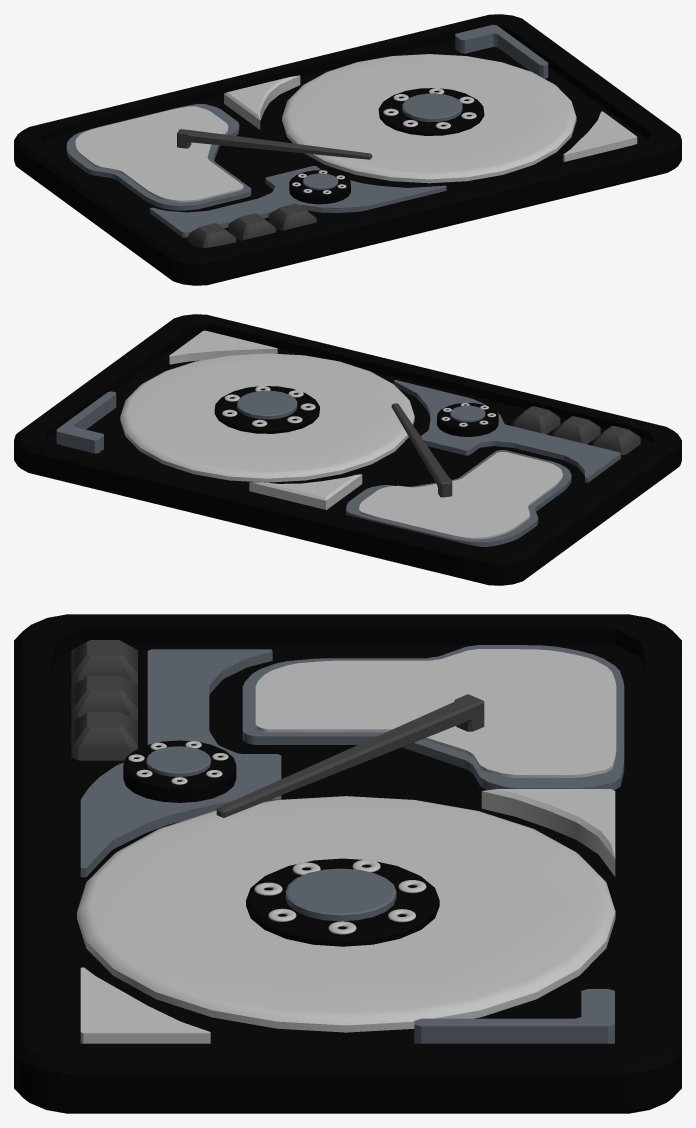
The model's file is disk.fbx.
The picture shows the model from 3 angles, top to bottom: view 1: azimuth 30°, elevation 25°; view 2: azimuth 150°, elevation 25°; view 3: azimuth 270°, elevation 25°; orthographic projection. The views are drawn at different scales.
Visible parts, largest first — view 1: polySurface11, disk, pasted__polySurface4, polySurface8, polySurface4, pasted__pCylinder1, pCube1, polySurface12, polySurface2, polySurface10, pCylinder1, pasted__pasted__pCylinder1 (+4 smaller); view 2: polySurface11, disk, pasted__polySurface4, polySurface8, polySurface4, pasted__pCylinder1, polySurface2, polySurface10, polySurface12, pCylinder1, pCube1, pasted__pasted__pCylinder1 (+4 smaller); view 3: polySurface11, disk, pasted__polySurface4, polySurface8, polySurface4, pasted__pCylinder1, polySurface12, polySurface2, pCube1, polySurface10, pCylinder1, pasted__pasted__pCylinder1 (+4 smaller).
Boxes of the visible parts, box(x1,y1,x2,y2) form: polySurface11: box(14, 14, 681, 285); disk: box(282, 54, 576, 183); pasted__polySurface4: box(75, 106, 243, 202); polySurface8: box(150, 166, 446, 237); polySurface4: box(66, 104, 251, 210); pasted__pCylinder1: box(378, 88, 484, 135); pCube1: box(177, 129, 372, 159); polySurface12: box(455, 24, 548, 78); polySurface2: box(224, 75, 300, 129); polySurface10: box(563, 111, 637, 162); pCylinder1: box(402, 93, 462, 122); pasted__pasted__pCylinder1: box(289, 170, 350, 204); polySurface11: box(14, 314, 681, 585); disk: box(120, 353, 414, 482); pasted__polySurface4: box(359, 452, 562, 539); polySurface8: box(393, 380, 620, 482); polySurface4: box(346, 450, 571, 546); pasted__pCylinder1: box(214, 386, 319, 433); polySurface2: box(249, 474, 362, 509); polySurface10: box(169, 330, 277, 364); polySurface12: box(56, 391, 116, 453); pCylinder1: box(237, 390, 297, 419); pCube1: box(391, 403, 452, 497); pasted__pasted__pCylinder1: box(437, 403, 498, 436); polySurface11: box(14, 614, 681, 1113); disk: box(77, 796, 615, 1032); pasted__polySurface4: box(255, 649, 616, 777); polySurface8: box(80, 649, 281, 877); polySurface4: box(242, 645, 624, 790); pasted__pCylinder1: box(246, 858, 439, 946); polySurface12: box(414, 989, 614, 1043); polySurface2: box(481, 789, 615, 876); pCube1: box(216, 694, 484, 817); polySurface10: box(80, 967, 210, 1043); pCylinder1: box(285, 868, 396, 921); pasted__pasted__pCylinder1: box(123, 740, 236, 802).
Size of the model in its own units: 2.77 by 0.2062 by 1.72.
Materials: 7 (5 with a texture image).
